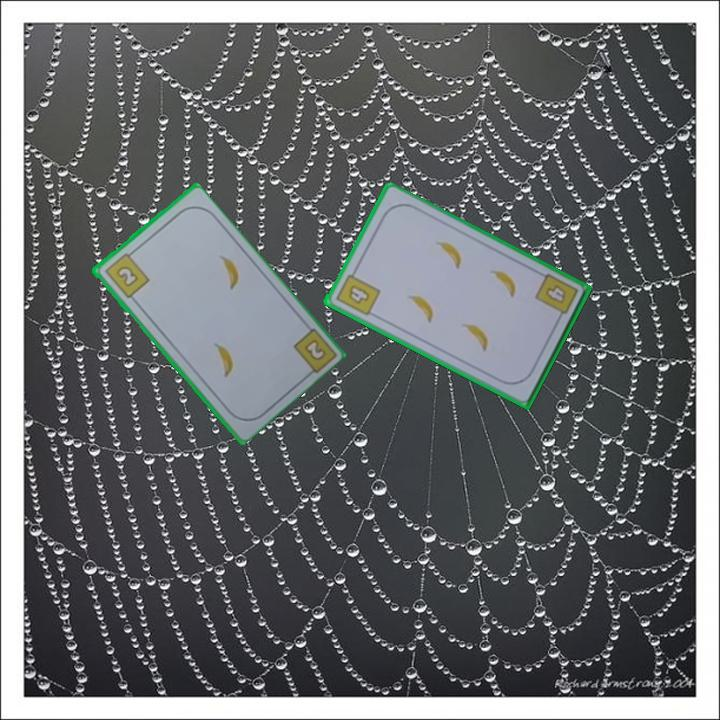2b: (101, 247, 152, 301), (300, 335, 329, 364)
4b: (331, 265, 383, 319), (541, 281, 568, 307)
